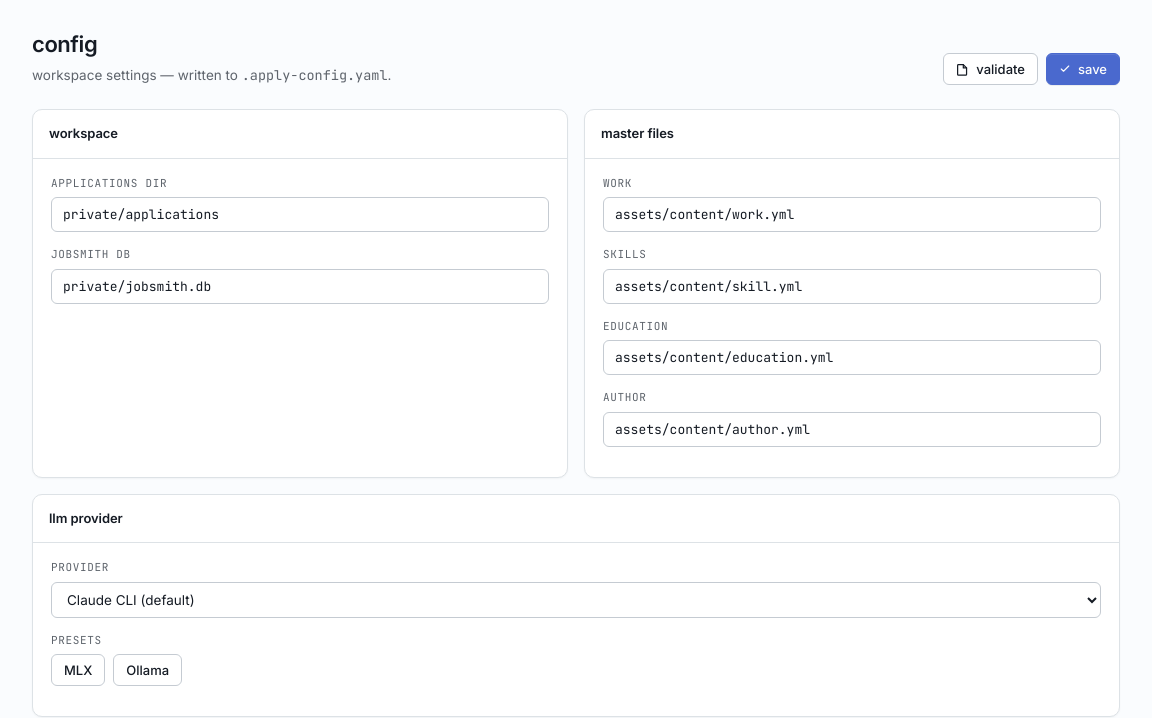
Test: ConfigView › renders a validate-failure message when /api/config/validate throws
Expected: the 2nd field showing "assets/content/work.yml" is shown, [603, 197, 1101, 232]
What coordinates should you click on to do the following:
click the button "validate"
I would click on:
 (991, 69)
Its box is [943, 53, 1038, 85].
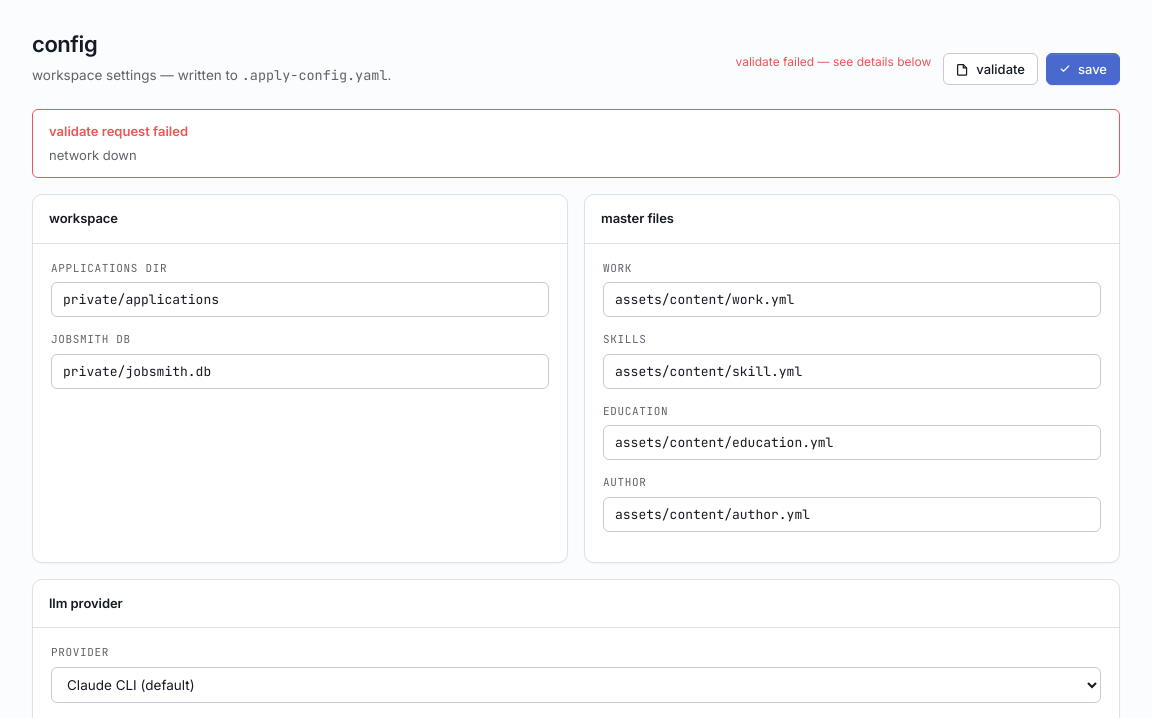
Now the text "validate request failed" is shown, box [49, 123, 188, 139]
Now the text "validate request failed network down" is shown, box [32, 109, 1120, 178]
